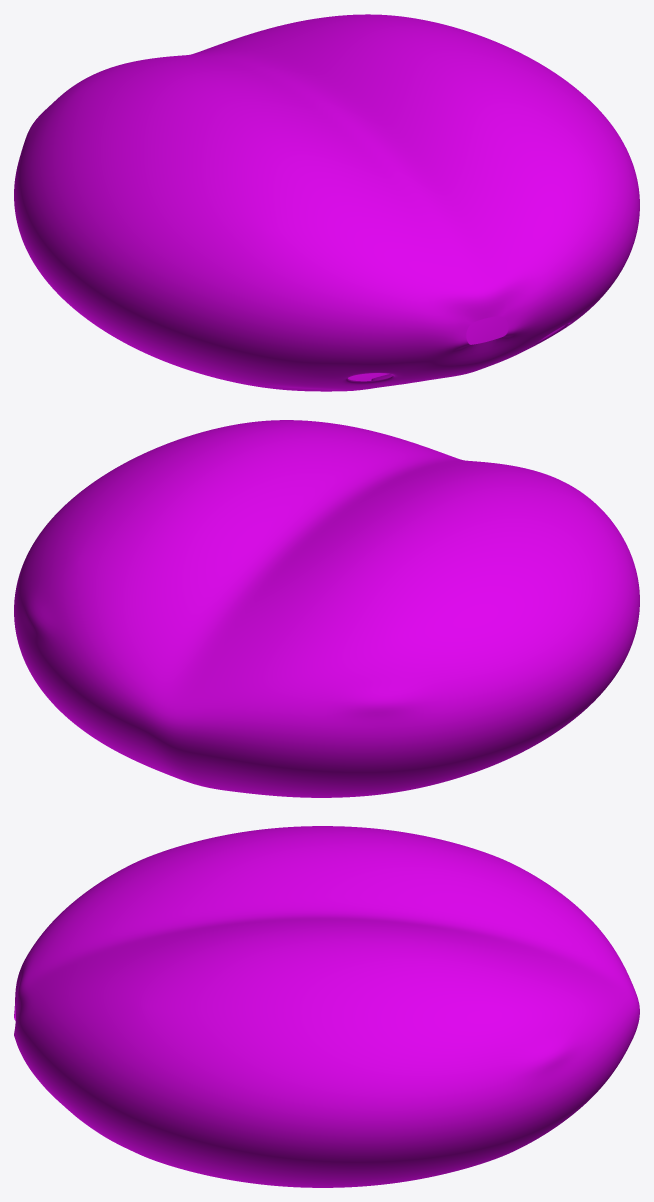
Rendered from zone2-rhino-purple.gltf.
The picture shows the model from 3 angles, top to bottom: view 1: azimuth 30°, elevation 25°; view 2: azimuth 150°, elevation 25°; view 3: azimuth 270°, elevation 25°; orthographic projection. The views are drawn at different scales.
Parts seen in each view (by area): view 1: TeteBas; view 2: TeteBas; view 3: TeteBas.
Boxes of the visible parts, box(x1,y1,x2,y2) form: TeteBas: box(14, 14, 639, 391); TeteBas: box(14, 420, 639, 797); TeteBas: box(14, 826, 639, 1187).
Size of the model in its own units: 3.36 by 1.53 by 3.52.
